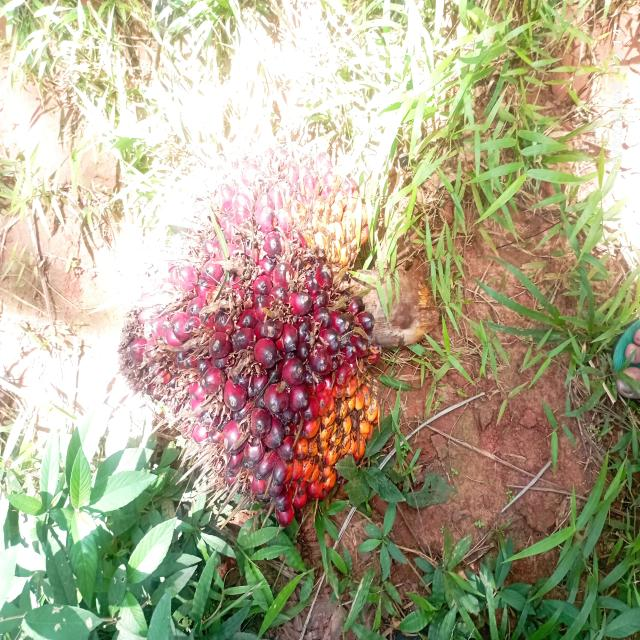fraksi 1: (89, 132, 400, 554)
